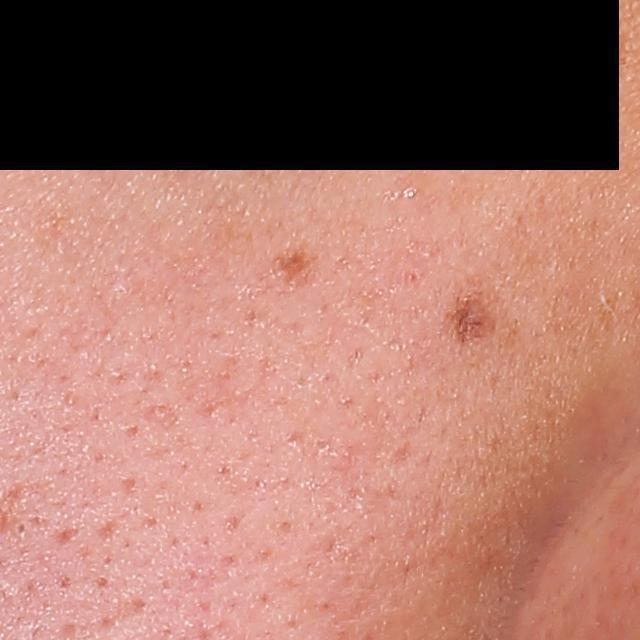comedo: (9, 518, 32, 542)
melasma: (270, 243, 317, 298), (591, 26, 637, 71)
nevus: (443, 290, 503, 347)
